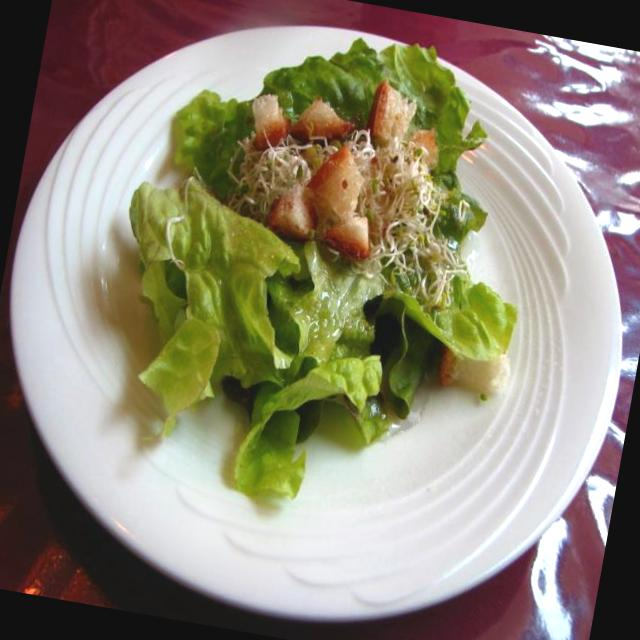Green Salad: (103, 0, 538, 505)
